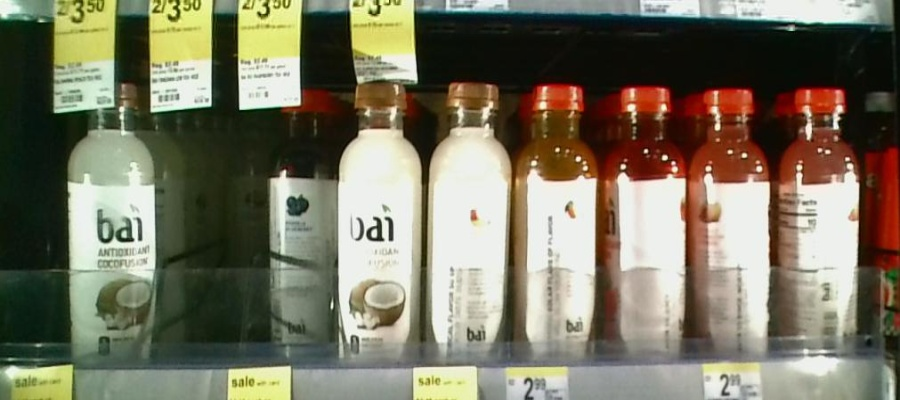bottle: (66, 75, 157, 370), (773, 73, 864, 349), (428, 70, 514, 352), (338, 78, 426, 351), (604, 77, 689, 357), (518, 73, 601, 355), (692, 77, 771, 357), (270, 85, 336, 351), (222, 102, 266, 336)
